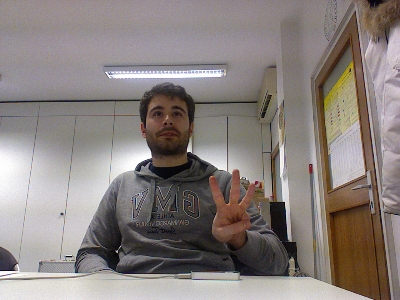三分: (208, 166, 257, 244)
